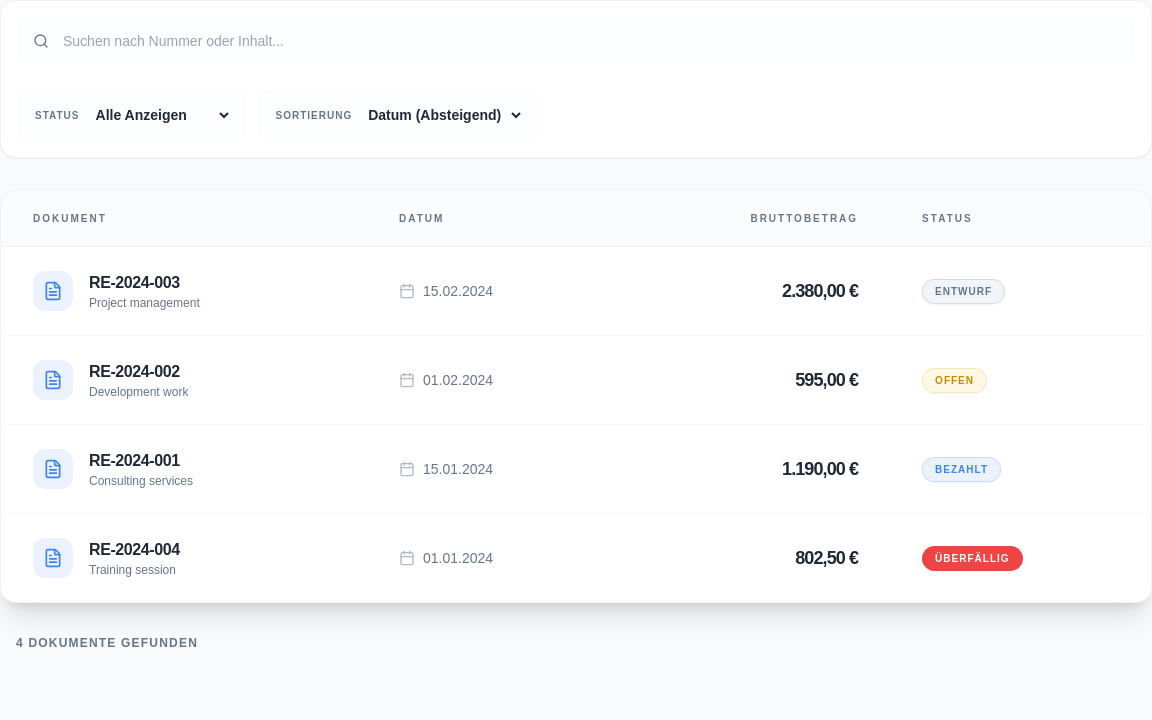
Test case: InvoiceList › filtering › should show all invoices when filter is cleared
# Filter first
Select "Bezahlt" in the dropdown named "status" at (162,115), box [92, 95, 232, 135]
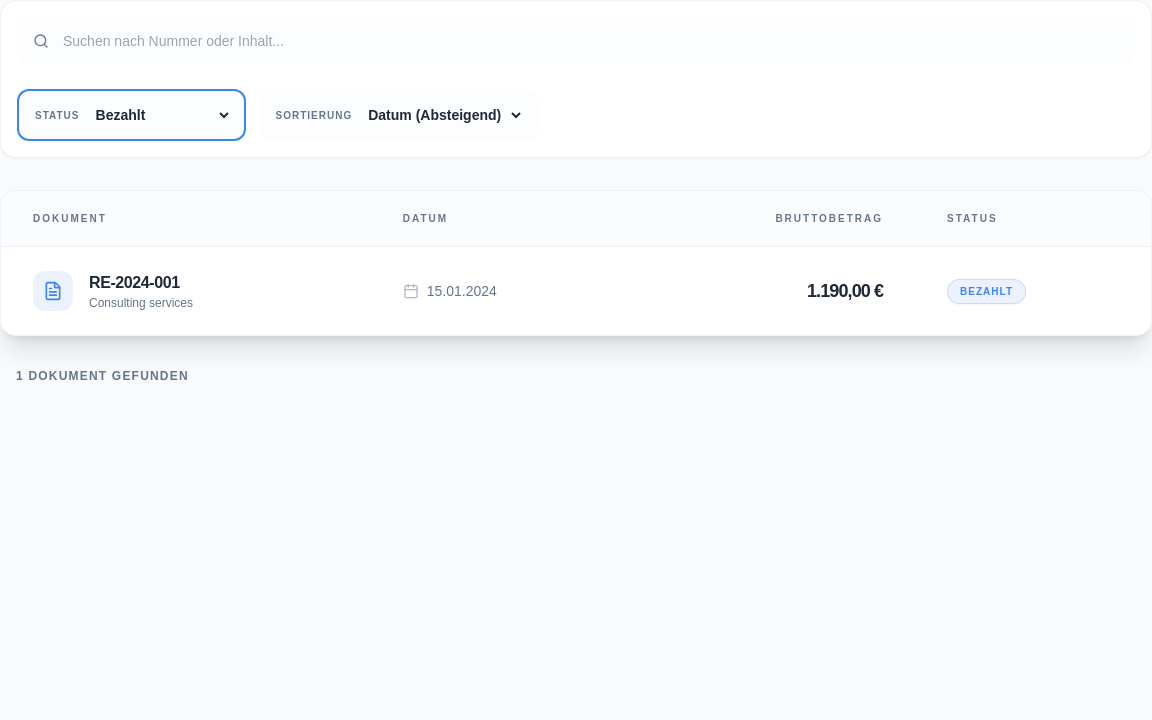
# Then clear
Select "Alle Anzeigen" in the dropdown named "status" at (162,115), box [92, 95, 232, 135]
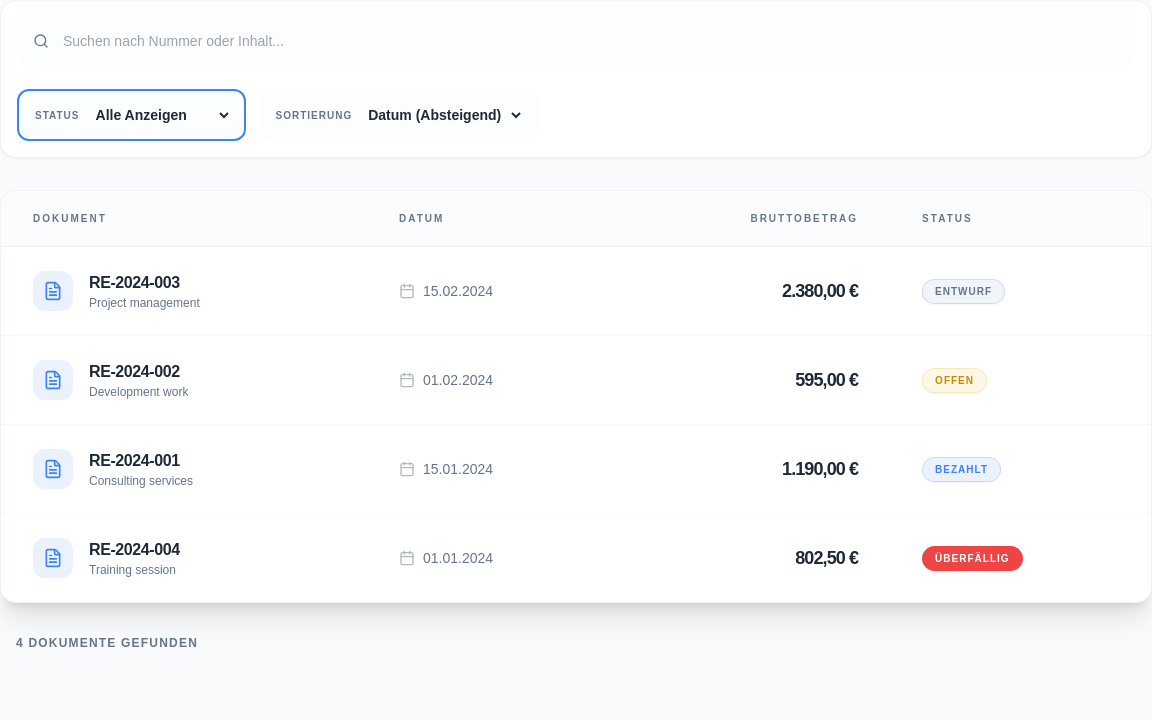
Expected: the text "RE-2024-001" is shown, [89, 449, 193, 473]
Expected: the text "RE-2024-002" is shown, [89, 360, 188, 384]
Expected: the text "RE-2024-003" is shown, [89, 274, 180, 291]
